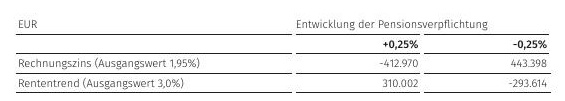table: (0, 0, 565, 101)
